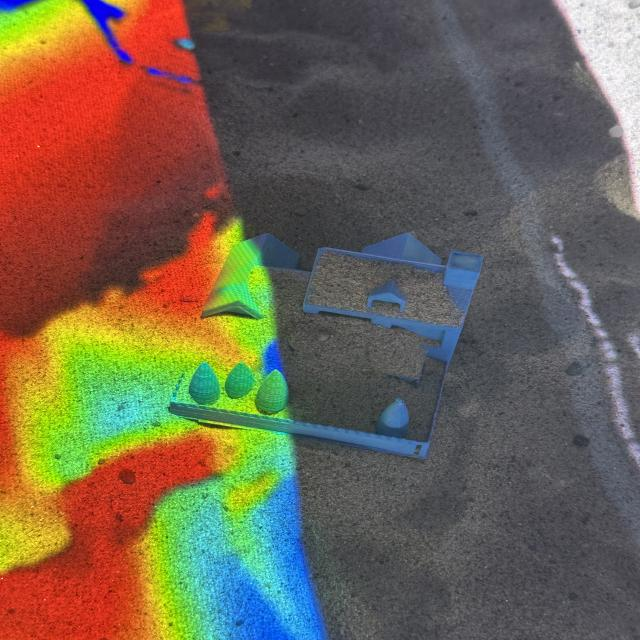house: (170, 229, 485, 460)
